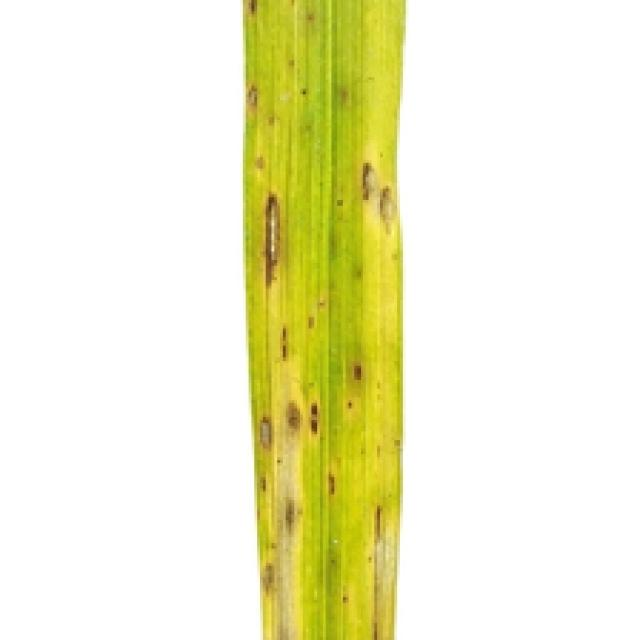Rice___Rice_Blast: (238, 0, 406, 637)
